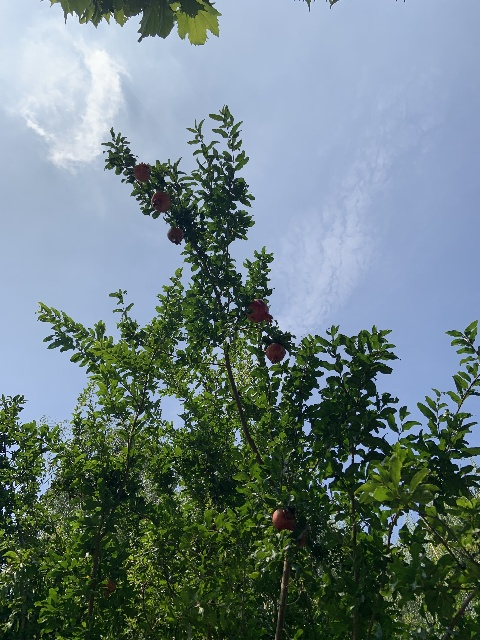ripe: (246, 298, 273, 325), (272, 508, 294, 530), (150, 190, 171, 212), (265, 343, 285, 364), (133, 161, 150, 182), (167, 227, 183, 245)
